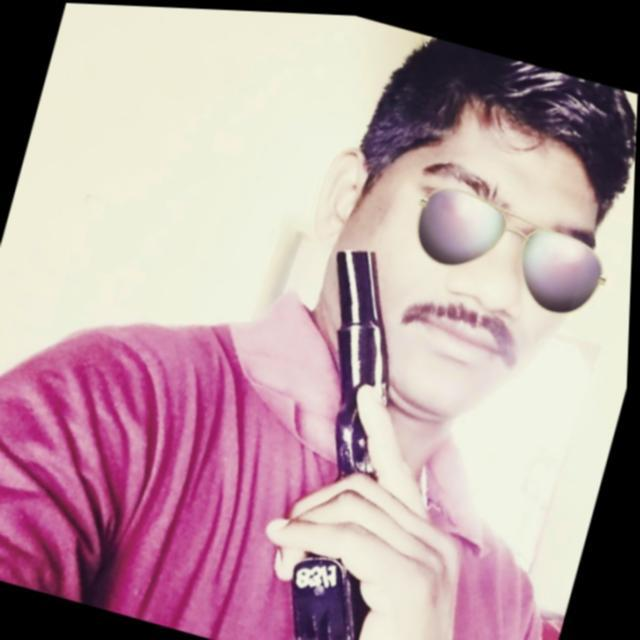weapon: (227, 229, 512, 640)
